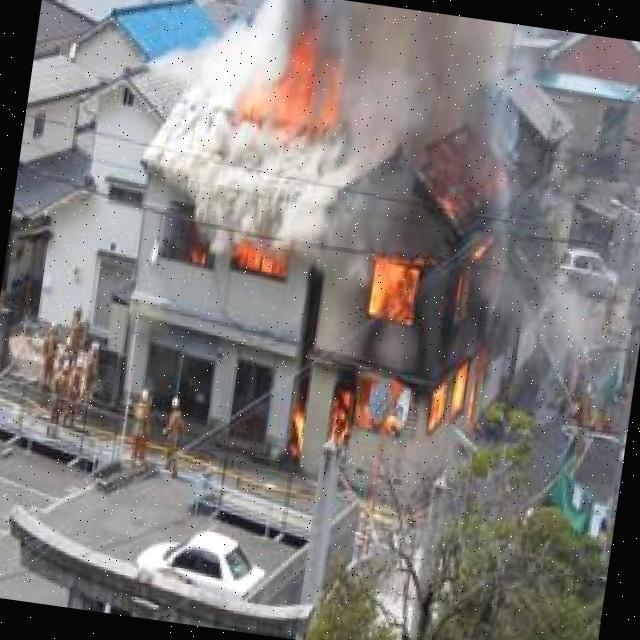fire: (328, 226, 508, 456), (229, 39, 346, 139), (219, 239, 296, 282)
